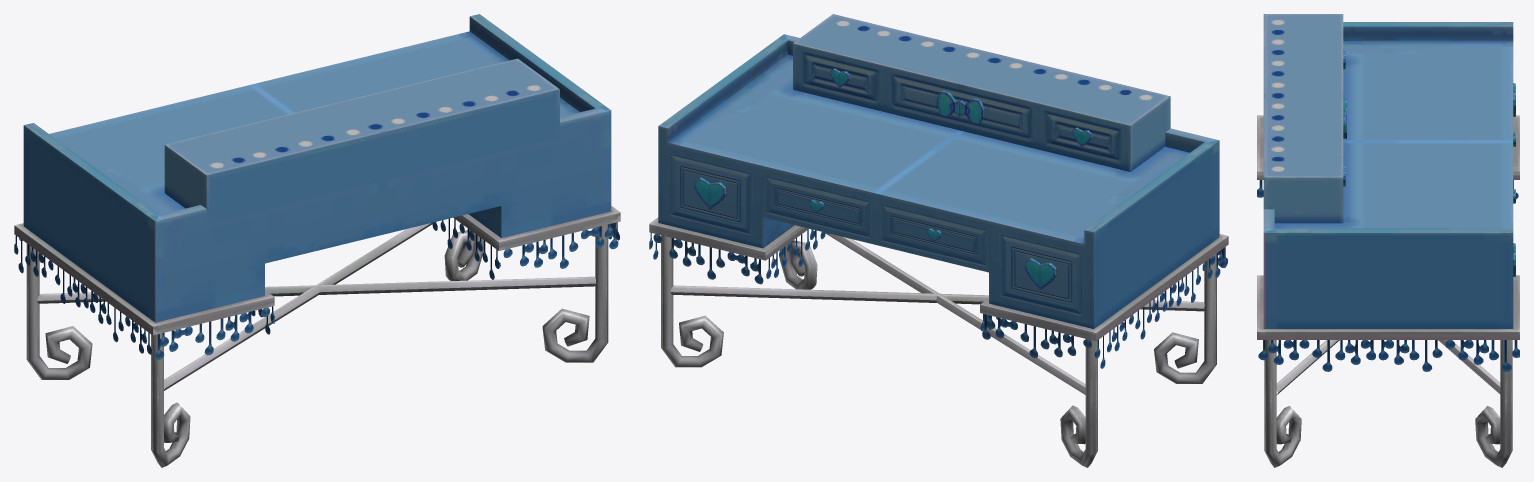
The model's file is furni_0200025_03.FBX.
3 renders of one model, left to right at view 1: azimuth 30°, elevation 25°; view 2: azimuth 150°, elevation 25°; view 3: azimuth 270°, elevation 25°, orthographic. The views are drawn at different scales.
Parts seen in each view (by area): view 1: furni_0200025_03; view 2: furni_0200025_03; view 3: furni_0200025_03.
Boxes of the visible parts, x1,y1,x2,y2 form: furni_0200025_03: (14,14,620,467); furni_0200025_03: (649,14,1228,467); furni_0200025_03: (1257,14,1519,467).
Size of the model in its own units: 164 by 96.29 by 84.24.
